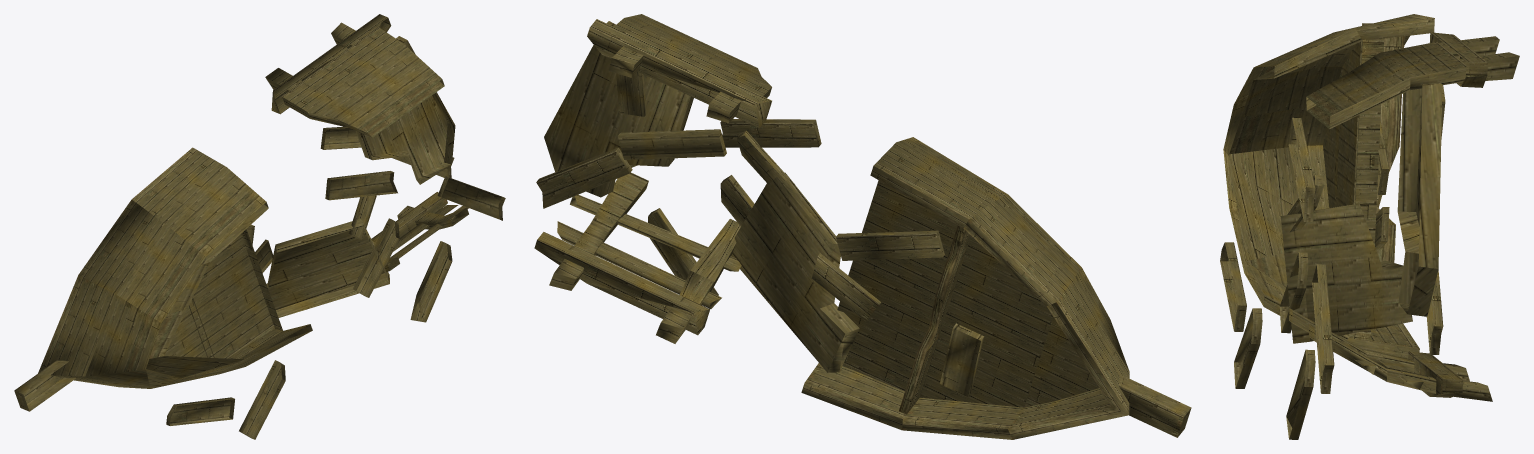
The model's file is SMSH_ Boat_1.FBX.
3 views of the same model, side by side, from view 1: azimuth 30°, elevation 25°; view 2: azimuth 150°, elevation 25°; view 3: azimuth 270°, elevation 25° (orthographic). The views are drawn at different scales.
Visible parts, largest first — view 1: Ytlds__Boat_1; view 2: Ytlds__Boat_1; view 3: Ytlds__Boat_1.
Part boxes in pixels (left/top/right/bottom): Ytlds__Boat_1: left=14, top=14, right=505, bottom=439; Ytlds__Boat_1: left=534, top=14, right=1191, bottom=439; Ytlds__Boat_1: left=1220, top=14, right=1519, bottom=439.
Bounding box in the file's own units: 914 × 567 × 319.
